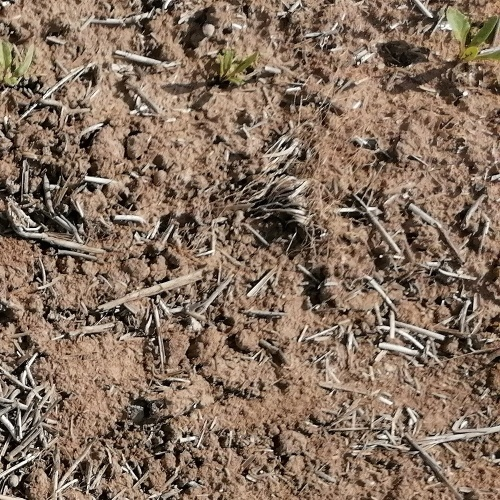beet: (447, 7, 500, 62), (0, 40, 36, 84), (218, 50, 259, 86)
